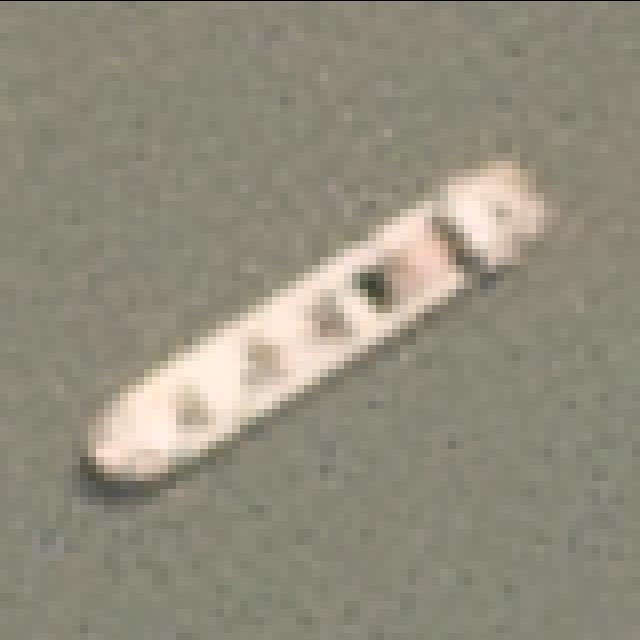ship: (61, 110, 591, 556)
